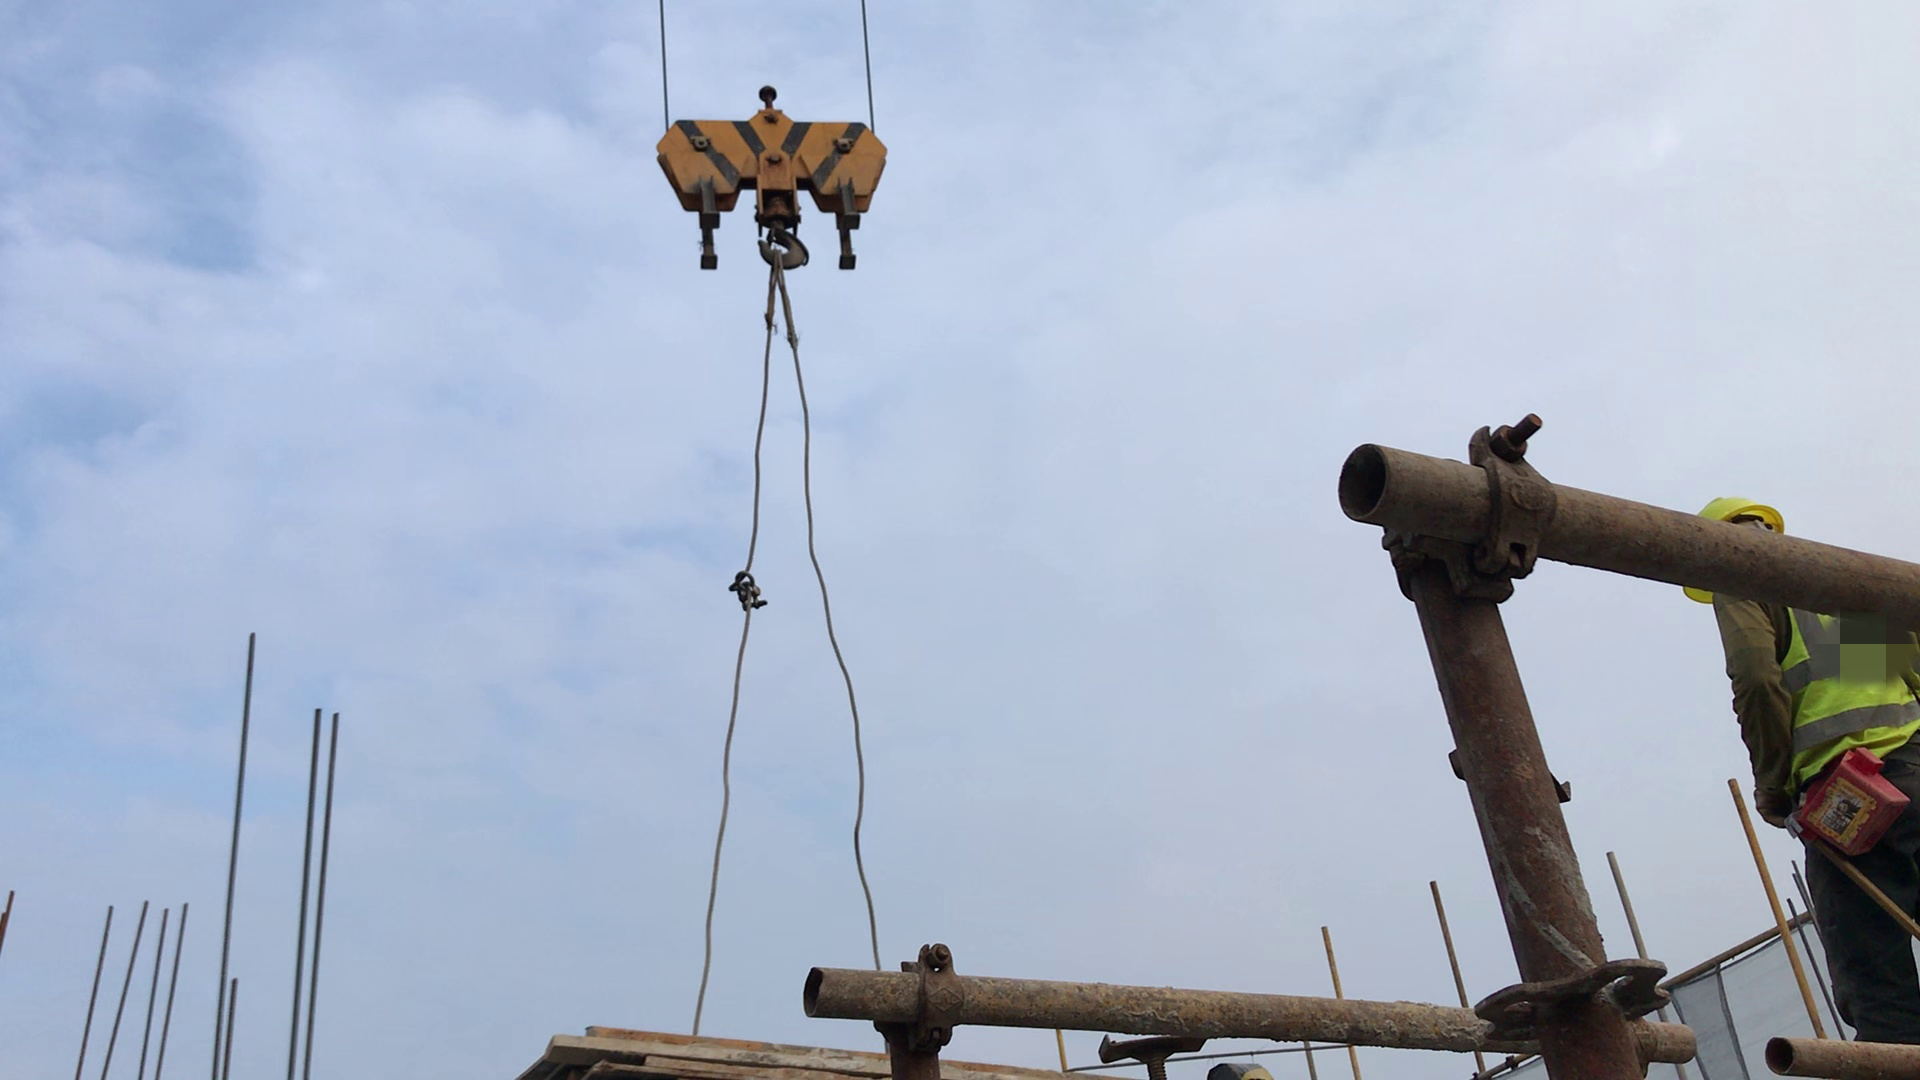hook: (638, 81, 903, 291)
person: (1687, 493, 1920, 1070)
